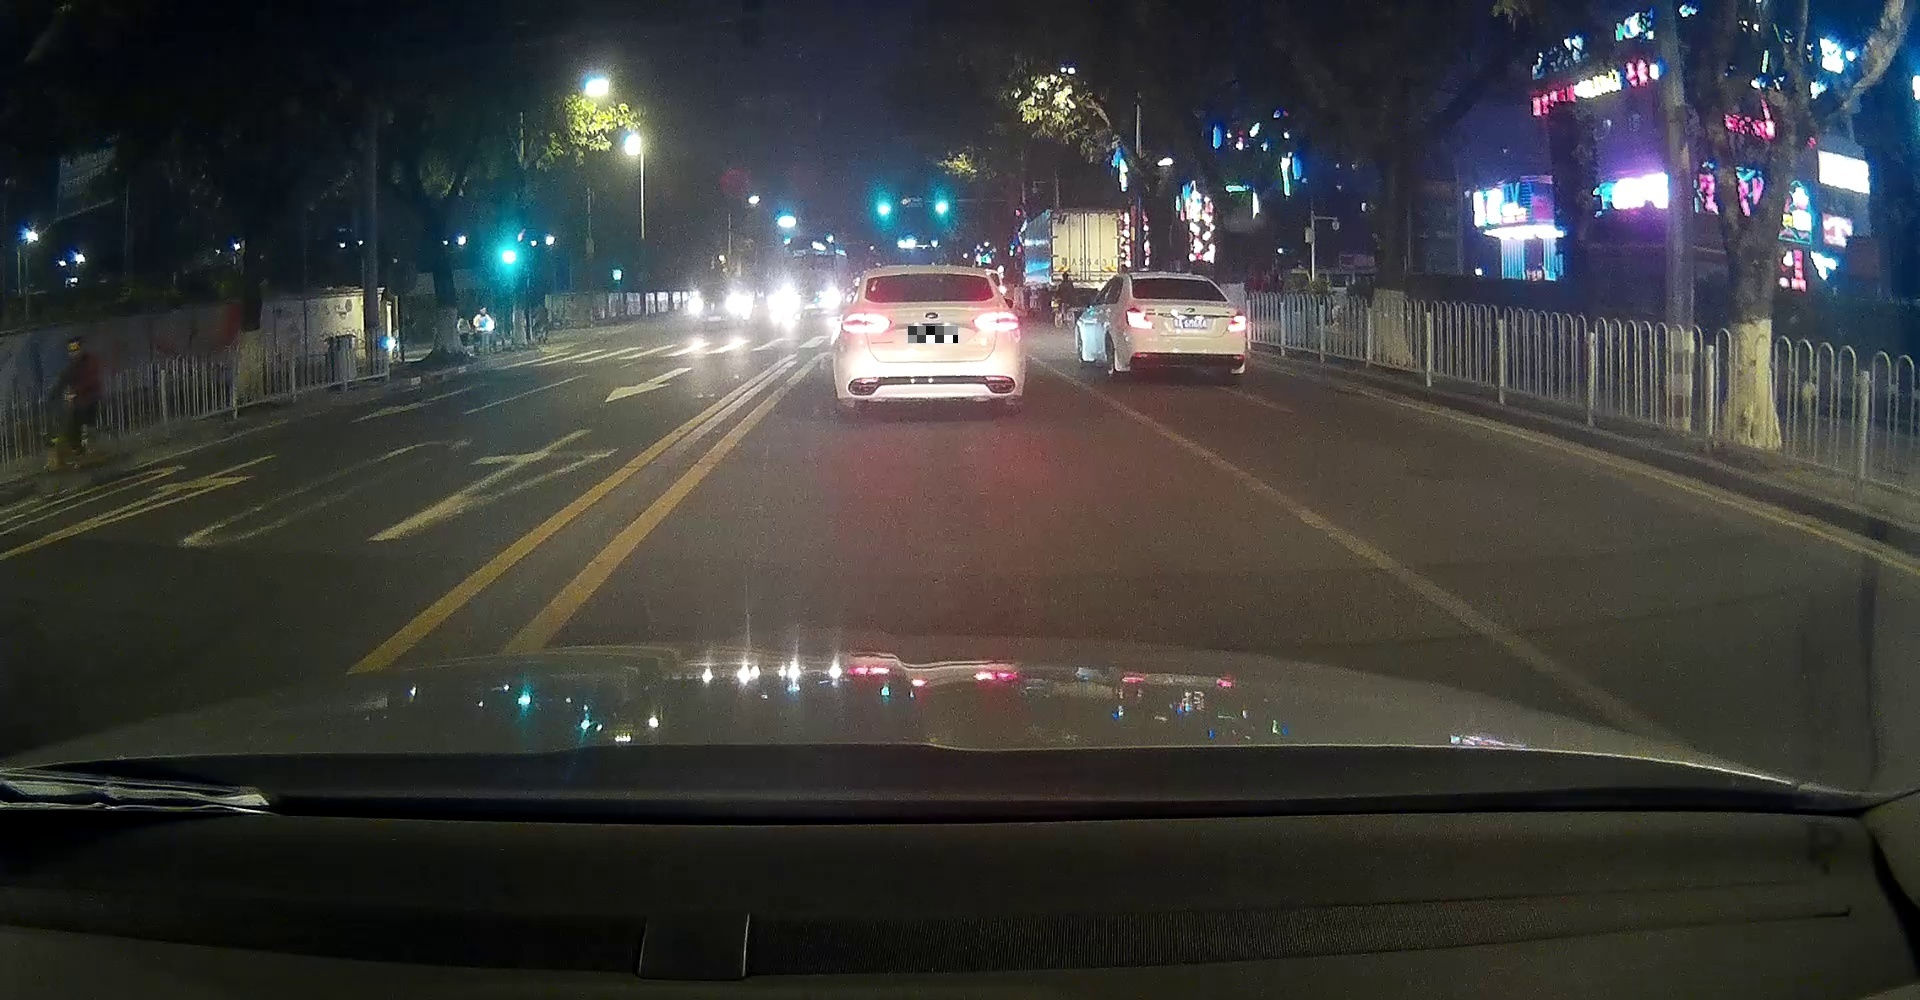L_light: (841, 313, 890, 334), (1125, 308, 1153, 329)
R_light: (971, 311, 1021, 332), (1227, 312, 1246, 332)
T_light: (916, 273, 947, 280), (1166, 278, 1182, 282)
night-no: (830, 264, 1026, 415), (1124, 272, 1247, 378)
plate_1: (908, 326, 957, 343)
